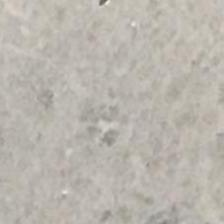Non_Crack: (4, 35, 204, 201)
